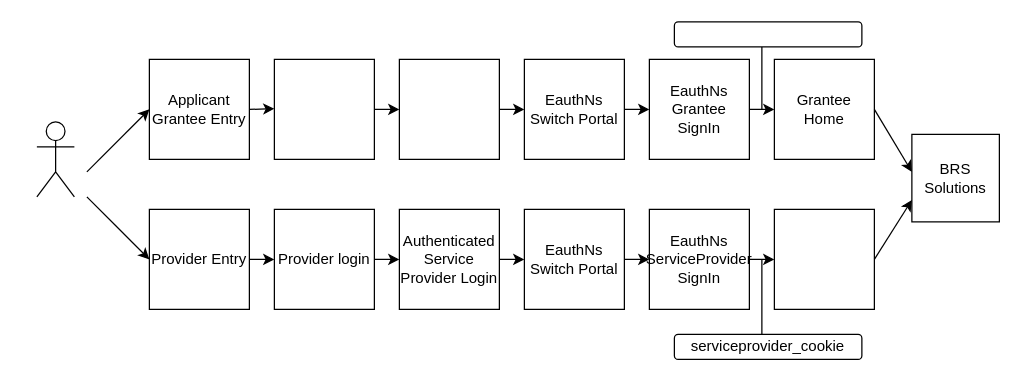
Some shapes in this 1021 by 381 pixel diagram are drawn without their labels. The centre of each missing label's shape, as x and y in pixels:
"Authenticated Grantee User" belongs at [448,108].
"External Login" belongs at [323,108].
"external_cookie" belongs at [767,34].
"One User Credential" belongs at [55,159].
"ServiceProvider Home" belongs at [823,258].
